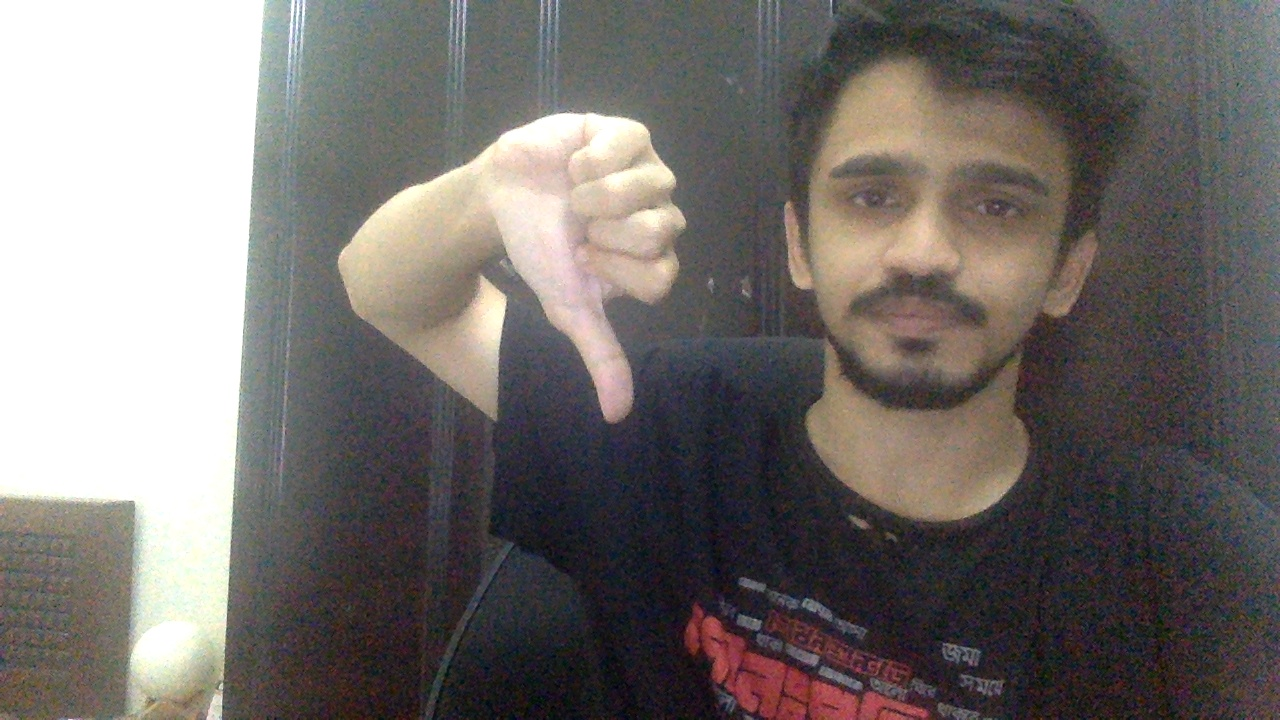bad: (482, 113, 686, 422)
